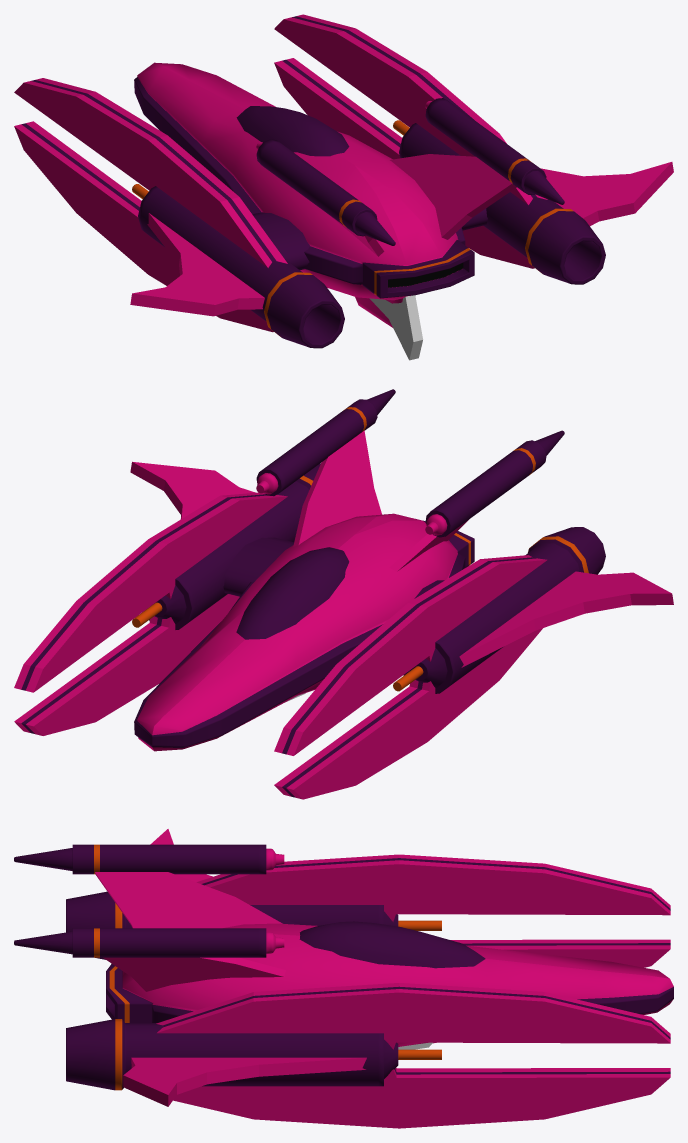
File: AlienStarfighter7.obj
3 renders of one model, top to bottom at view 1: azimuth 30°, elevation 25°; view 2: azimuth 150°, elevation 25°; view 3: azimuth 270°, elevation 25°, orthographic.
Parts seen in each view (by area): view 1: Cylinder.003_Cylinder.005, Sphere_Sphere.002, Cylinder.001_Cylinder.006, Cube.002_Cube.003, Cylinder.005_Cylinder.011, Cube.003_Cube.004, Sphere.001_Sphere.003, Cylinder, Cylinder.002_Cylinder.004; view 2: Cylinder.003_Cylinder.005, Sphere_Sphere.002, Cylinder.001_Cylinder.006, Cube.002_Cube.003, Cylinder.005_Cylinder.011, Cube.003_Cube.004, Sphere.001_Sphere.003, Cylinder; view 3: Cylinder.003_Cylinder.005, Sphere_Sphere.002, Cylinder.001_Cylinder.006, Cylinder.005_Cylinder.011, Cube.003_Cube.004, Cube.002_Cube.003, Sphere.001_Sphere.003.
Part boxes in pixels (x1,y1,x2,y2): Cylinder.003_Cylinder.005: [14, 14, 547, 332]; Sphere_Sphere.002: [134, 62, 474, 300]; Cylinder.001_Cylinder.006: [132, 120, 605, 348]; Cube.002_Cube.003: [130, 162, 673, 316]; Cylinder.005_Cylinder.011: [256, 98, 564, 245]; Cube.003_Cube.004: [325, 154, 516, 256]; Sphere.001_Sphere.003: [236, 106, 349, 156]; Cylinder: [252, 208, 487, 270]; Cylinder.002_Cylinder.004: [369, 295, 422, 360]; Cylinder.003_Cylinder.005: [14, 492, 546, 799]; Sphere_Sphere.002: [134, 513, 474, 751]; Cylinder.001_Cylinder.006: [132, 463, 605, 693]; Cube.002_Cube.003: [130, 461, 673, 667]; Cylinder.005_Cylinder.011: [256, 389, 564, 537]; Cube.003_Cube.004: [293, 430, 468, 571]; Sphere.001_Sphere.003: [236, 547, 349, 639]; Cylinder: [223, 537, 444, 598]; Cylinder.003_Cylinder.005: [156, 854, 670, 1128]; Sphere_Sphere.002: [106, 923, 673, 1046]; Cylinder.001_Cylinder.006: [66, 891, 441, 1090]; Cylinder.005_Cylinder.011: [14, 844, 284, 957]; Cube.003_Cube.004: [95, 872, 285, 991]; Cube.002_Cube.003: [123, 829, 366, 1106]; Sphere.001_Sphere.003: [299, 921, 485, 968].
Size of the model in its own units: 6.69 by 2.31 by 6.95.
